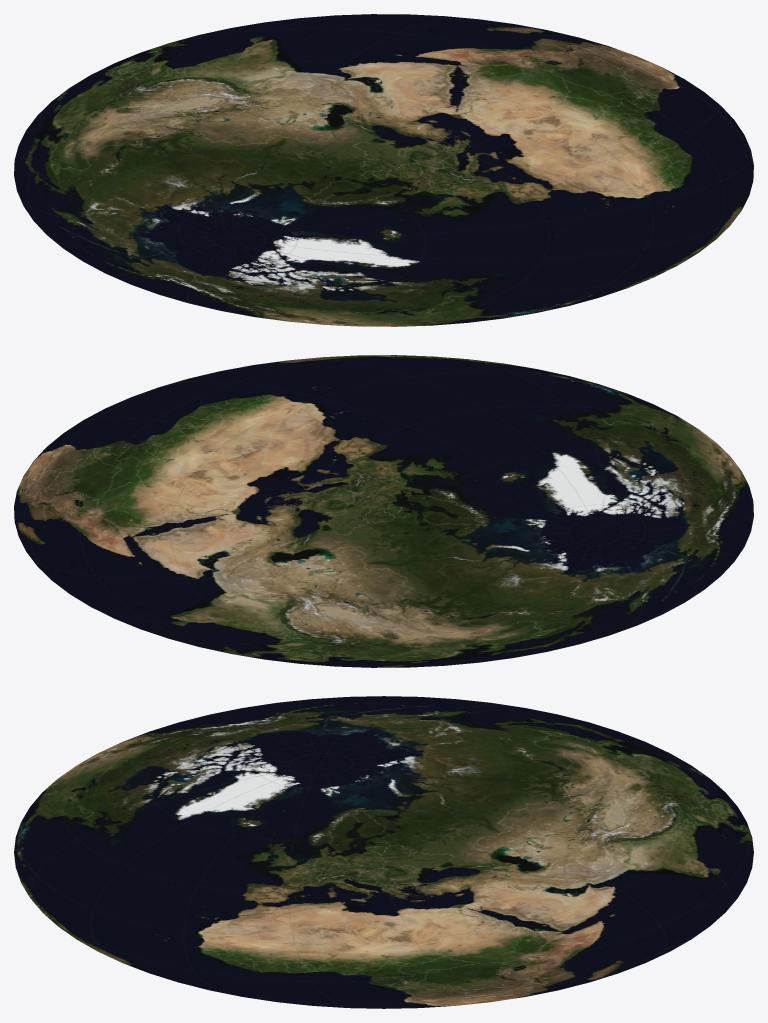
File: EuropeSlice.dae
3 renders of one model, top to bottom at view 1: azimuth 30°, elevation 25°; view 2: azimuth 150°, elevation 25°; view 3: azimuth 270°, elevation 25°, orthographic.
Parts seen in each view (by area): view 1: Cylinder; view 2: Cylinder; view 3: Cylinder.
Boxes of the visible parts, x1,y1,x2,y2 form: Cylinder: (14,14,753,326); Cylinder: (14,355,753,667); Cylinder: (14,696,753,1008).
Bounding box in the file's own units: 1.99 × 1.99 × 0.
